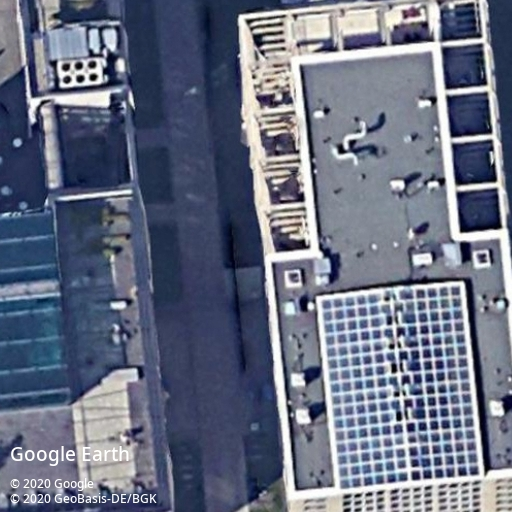Chiller: (56, 56, 104, 88)
